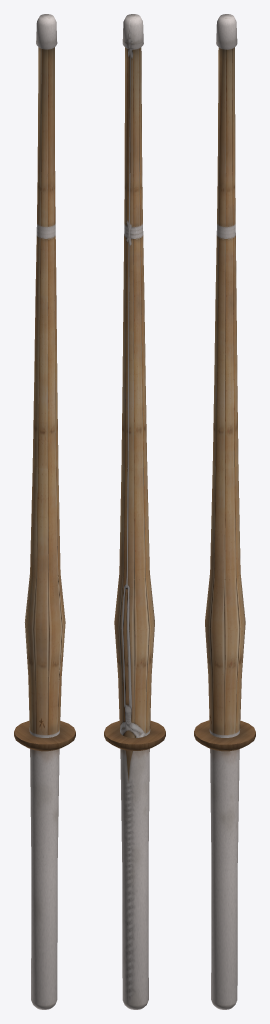
The model's file is shinai.fbx.
3 renders of one model, left to right at view 1: azimuth 30°, elevation 25°; view 2: azimuth 150°, elevation 25°; view 3: azimuth 330°, elevation 25°, orthographic.
Visible parts, largest first — view 1: Shinai_LOD0; view 2: Shinai_LOD0; view 3: Shinai_LOD0.
Boxes of the visible parts, bbox=[...] form: Shinai_LOD0: bbox=[14, 14, 75, 1009]; Shinai_LOD0: bbox=[104, 14, 165, 1009]; Shinai_LOD0: bbox=[194, 14, 255, 1009].
Size of what is drawn, in the model's own units: 0.0567 by 1.01 by 0.057.
